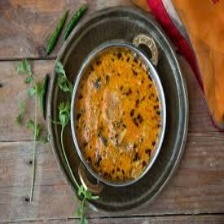sabzi: (71, 45, 163, 185)
